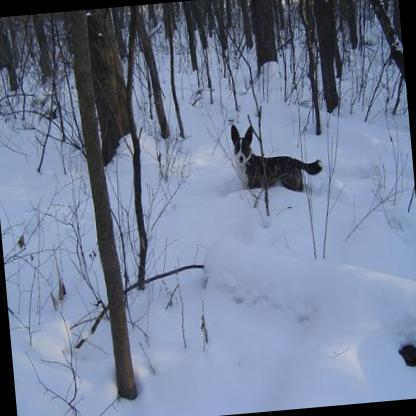Cardigan: (225, 107, 325, 196)
